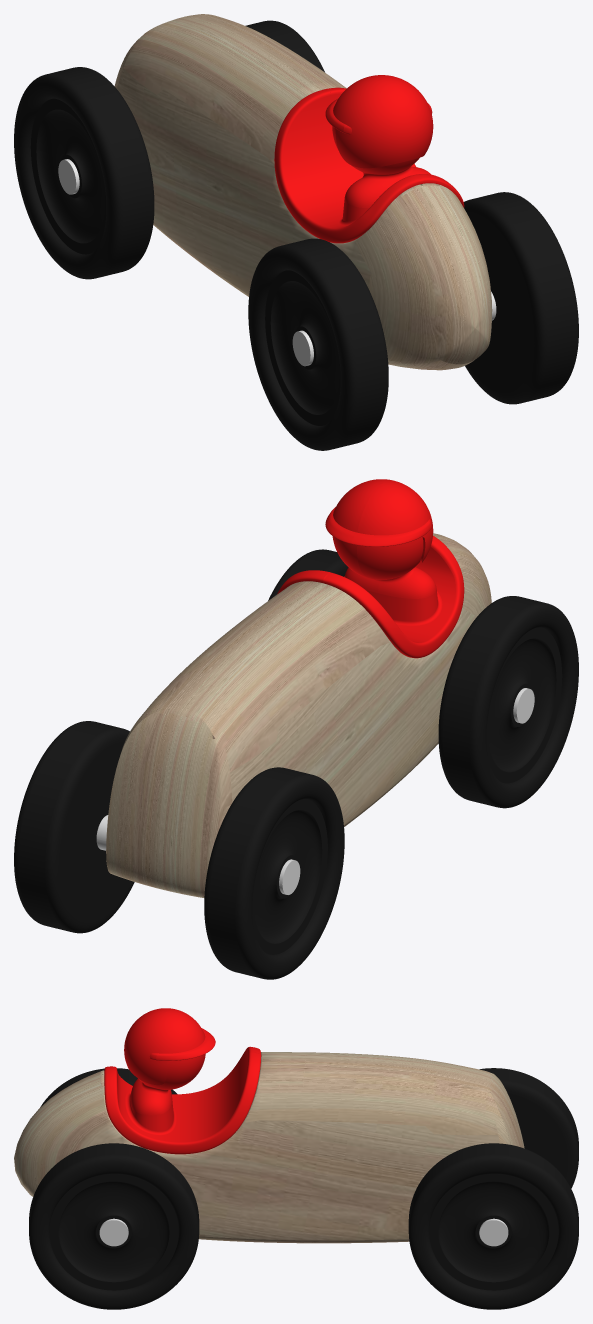
File: pawn.glb
3 renders of one model, top to bottom at view 1: azimuth 30°, elevation 25°; view 2: azimuth 150°, elevation 25°; view 3: azimuth 270°, elevation 25°, orthographic. The views are drawn at different scales.
Visible parts, largest first — view 1: hjul_3, kropp_5, huvud_4, hjulaxel_2; view 2: hjul_3, kropp_5, huvud_4, hjulaxel_2; view 3: kropp_5, hjul_3, huvud_4, hjulaxel_2.
Boxes of the visible parts, x1,y1,x2,y2 form: hjul_3: [14, 20, 578, 450]; kropp_5: [114, 14, 492, 370]; huvud_4: [274, 75, 464, 243]; hjulaxel_2: [58, 159, 496, 366]; hjul_3: [14, 549, 578, 979]; kropp_5: [106, 533, 491, 897]; huvud_4: [277, 479, 464, 658]; hjulaxel_2: [96, 688, 534, 894]; kropp_5: [14, 1052, 524, 1243]; hjul_3: [29, 1068, 578, 1309]; huvud_4: [104, 1008, 261, 1154]; hjulaxel_2: [99, 1218, 508, 1246].
Bounding box in the file's own units: 0.6021 × 0.775 × 1.56.
4 materials, 1 textured.
